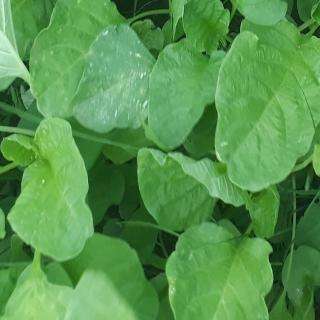karat_putih: (70, 20, 153, 136), (0, 0, 20, 91)
